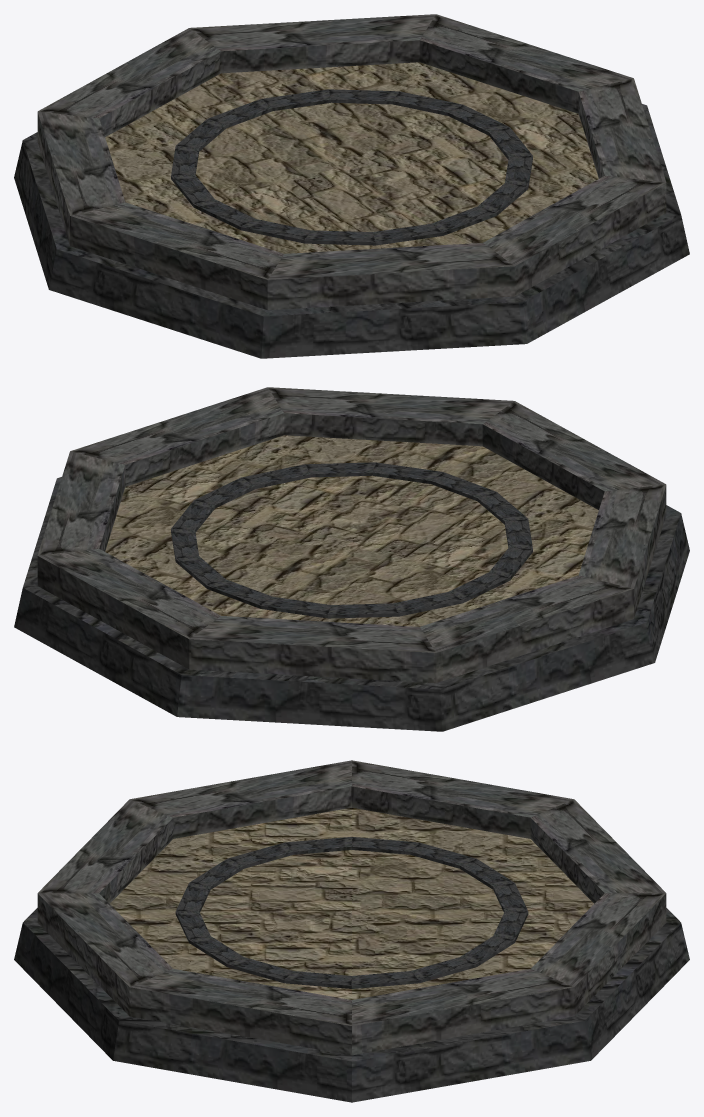
Rendered from mark_pad_01.glb.
3 views of the same model, one above another, from view 1: azimuth 30°, elevation 25°; view 2: azimuth 150°, elevation 25°; view 3: azimuth 270°, elevation 25° (orthographic). The views are drawn at different scales.
Parts seen in each view (by area): view 1: mark_pad_01; view 2: mark_pad_01; view 3: mark_pad_01.
Part boxes in pixels (x1,y1,x2,y2): mark_pad_01: (14, 14, 689, 358); mark_pad_01: (14, 387, 689, 731); mark_pad_01: (14, 760, 689, 1102).
Bounding box in the file's own units: 2.3 × 0.2499 × 2.3.
Materials: 3 (3 with a texture image).
